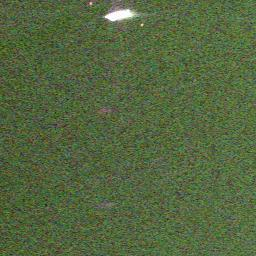Ship: (102, 6, 135, 22)
